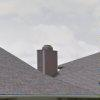Chimney: (28, 37, 67, 86)
